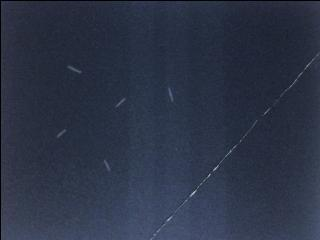crack: (153, 51, 319, 240)
scratch: (62, 63, 85, 77), (103, 158, 113, 173), (115, 96, 126, 108), (168, 86, 175, 102), (56, 128, 66, 138)
